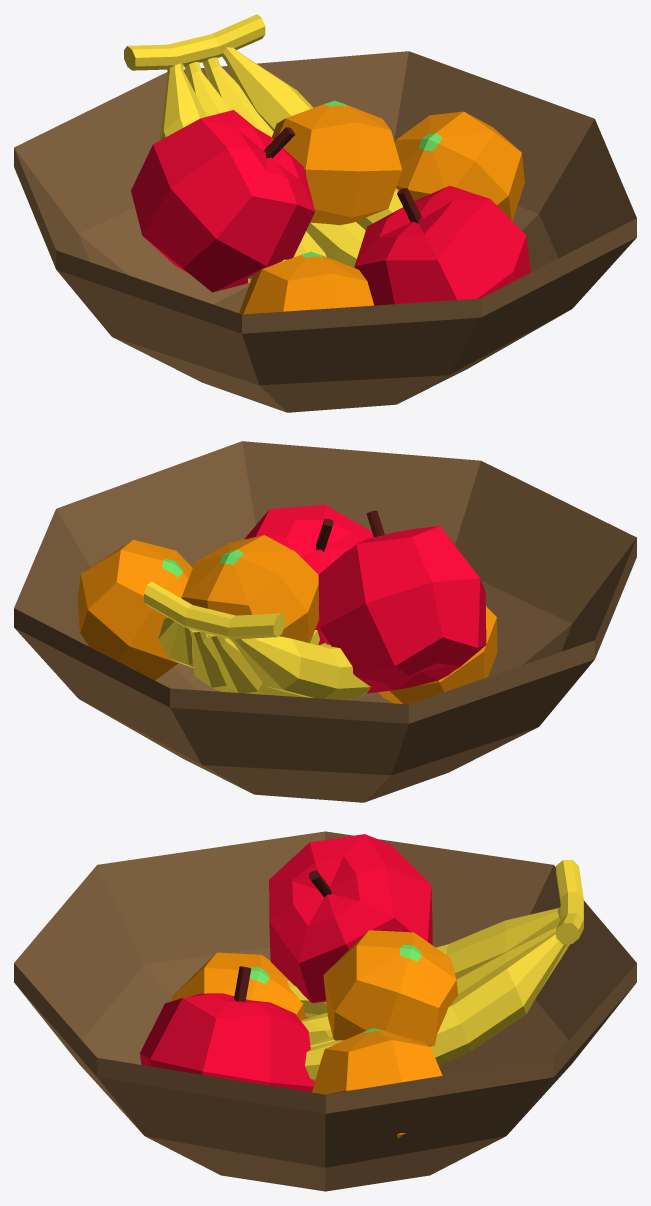
File: fruitbowl.fbx
The picture shows the model from 3 angles, top to bottom: view 1: azimuth 30°, elevation 25°; view 2: azimuth 150°, elevation 25°; view 3: azimuth 270°, elevation 25°; orthographic projection.
Parts seen in each view (by area): view 1: Plane.005, Cube.002, Cube.001, Plane.004, Cube.005, Cube.004, Cube.003; view 2: Plane.005, Cube.002, Plane.004, Cube.004, Cube.005, Cube.001, Cube.003; view 3: Plane.005, Cube.002, Plane.004, Cube.001, Cube.005, Cube.004, Cube.003.
Part boxes in pixels (<box>): Plane.005: <box>14,51,636,412</box>; Cube.002: <box>131,110,315,292</box>; Cube.001: <box>354,185,530,305</box>; Plane.004: <box>124,14,402,283</box>; Cube.005: <box>272,100,402,225</box>; Cube.004: <box>394,111,524,220</box>; Cube.003: <box>239,251,373,314</box>; Plane.005: <box>14,441,636,802</box>; Cube.002: <box>318,510,486,693</box>; Plane.004: <box>143,581,370,699</box>; Cube.004: <box>77,539,192,680</box>; Cube.005: <box>181,535,319,643</box>; Cube.001: <box>244,504,373,644</box>; Cube.003: <box>378,606,497,704</box>; Plane.005: <box>14,831,636,1191</box>; Cube.002: <box>269,834,432,1003</box>; Plane.004: <box>287,859,583,1081</box>; Cube.001: <box>140,966,314,1092</box>; Cube.005: <box>323,930,457,1046</box>; Cube.004: <box>312,1028,442,1138</box>; Cube.003: <box>171,952,305,1020</box>.
Bounding box in the file's own units: 181 × 78.88 × 181.
